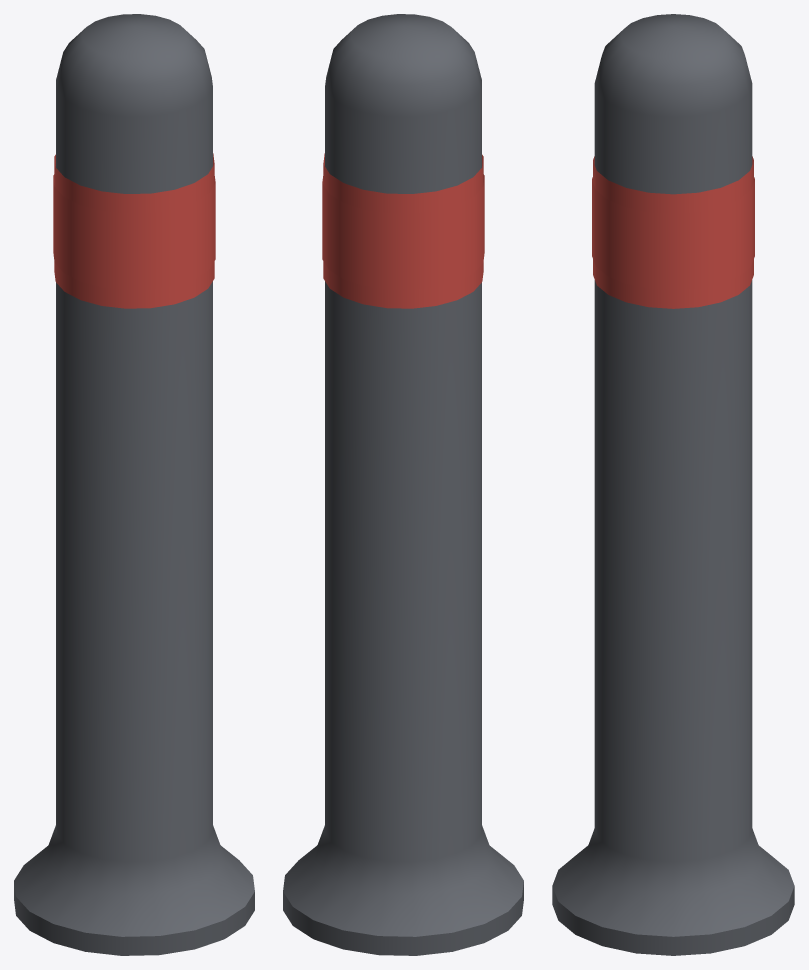
The model's file is Bollard_V2.fbx.
3 views of the same model, side by side, from view 1: azimuth 30°, elevation 25°; view 2: azimuth 150°, elevation 25°; view 3: azimuth 270°, elevation 25° (orthographic).
Visible parts, largest first — view 1: Bollard_V2; view 2: Bollard_V2; view 3: Bollard_V2.
Part boxes in pixels (<box>): Bollard_V2: <box>14,14,254,955</box>; Bollard_V2: <box>283,14,523,955</box>; Bollard_V2: <box>552,14,794,955</box>.
Size of the model in its own units: 0.23 by 0.92 by 0.23.
